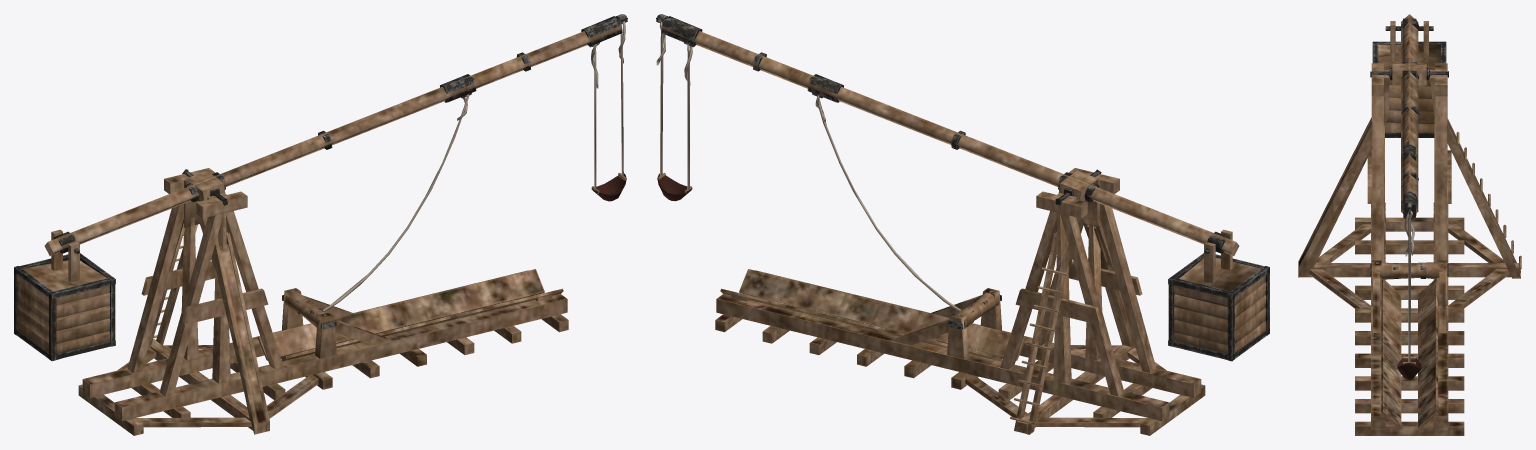
The model's file is trebuchet.zfix-v14.lod1.glb.
3 renders of one model, left to right at view 1: azimuth 30°, elevation 25°; view 2: azimuth 150°, elevation 25°; view 3: azimuth 270°, elevation 25°, orthographic.
Parts seen in each view (by area): view 1: WoodenFrame_WoodenFrame_0, IronFittings_Iron_0, Ropes_Ropes_0; view 2: WoodenFrame_WoodenFrame_0, IronFittings_Iron_0, Ropes_Ropes_0; view 3: WoodenFrame_WoodenFrame_0, IronFittings_Iron_0, Ropes_Ropes_0.
Boxes of the visible parts, x1=… form: WoodenFrame_WoodenFrame_0: x1=16, y1=18, x2=626, y2=435; IronFittings_Iron_0: x1=14, y1=14, x2=627, y2=361; Ropes_Ropes_0: x1=323, y1=21, x2=626, y2=311; WoodenFrame_WoodenFrame_0: x1=657, y1=18, x2=1267, y2=435; IronFittings_Iron_0: x1=656, y1=14, x2=1269, y2=361; Ropes_Ropes_0: x1=656, y1=21, x2=960, y2=311; WoodenFrame_WoodenFrame_0: x1=1298, y1=14, x2=1521, y2=435; IronFittings_Iron_0: x1=1370, y1=18, x2=1448, y2=278; Ropes_Ropes_0: x1=1397, y1=211, x2=1421, y2=379.
Size of the model in its own units: 24.81 by 11.01 by 8.21.
3 materials, 2 textured.
